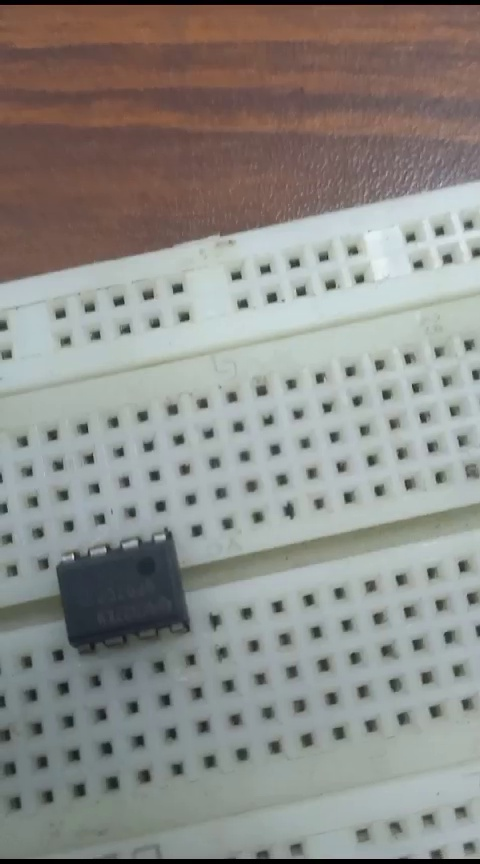IC: (30, 527, 214, 656)
